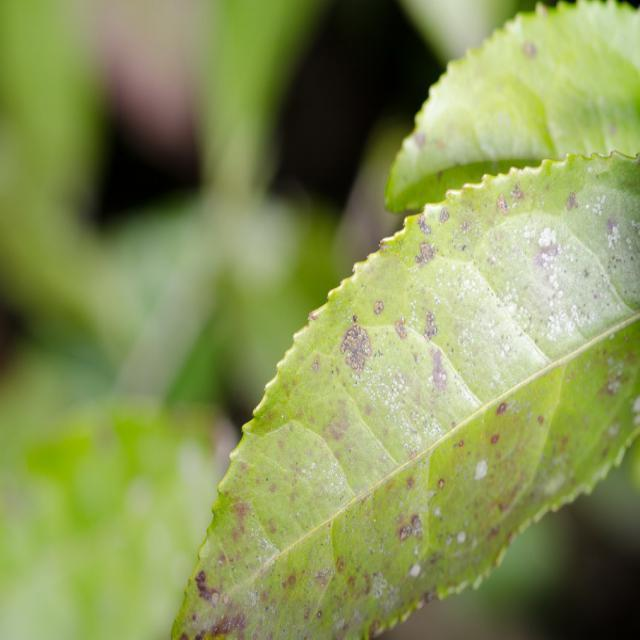Tea red rust: (199, 176, 628, 636)
